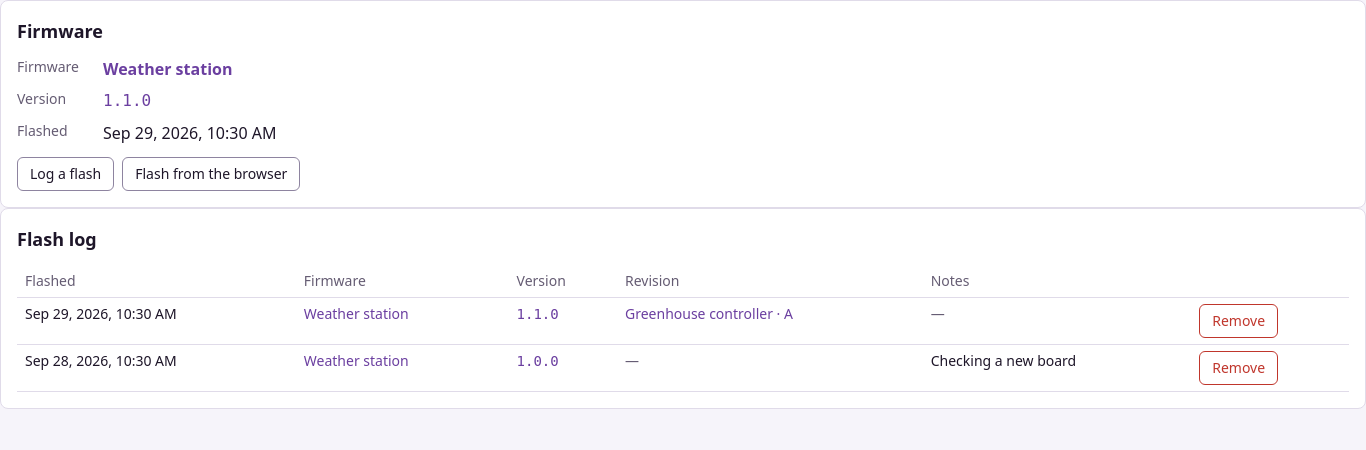
Scenario: CurrentFirmware and FlashLog › asks in its row before removing an entry, and the one before becomes current
The width and height of the screenshot is (1366, 450).
Expected: the text "is out" is not shown
Click the button with aria-label "Remove the flash of Weather station 1.1.0" at x=1239, y=321, box [1199,304,1278,338]
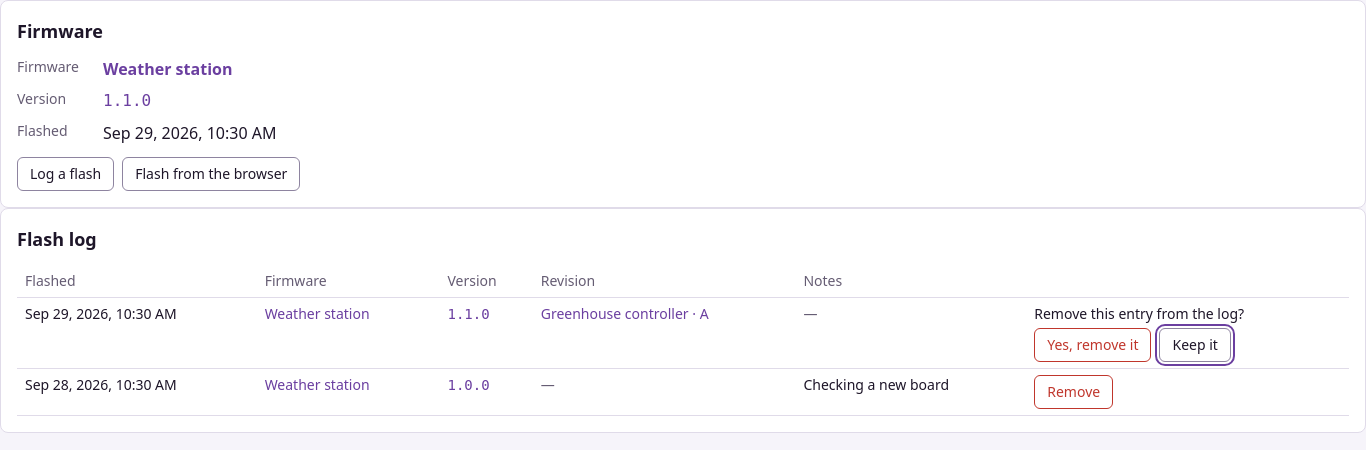
Result: the row that starts with "Sep 29, 2026, 10:30 AM" shows "Remove this entry from the log?" at [1034,304,1244,323]
Click the button "Yes, remove it" at x=1093, y=345, box [1034,328,1152,362]
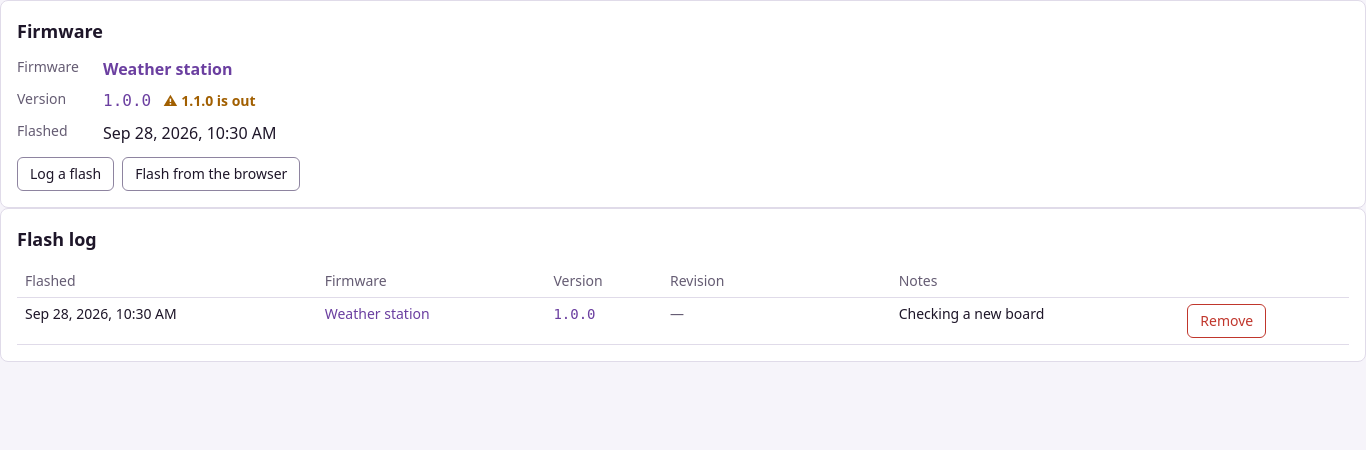
Result: the link "⚠ 1.1.0 is out" is shown at [163,91,256,111]
Result: the number of rows is 2 at [17,265,1349,298]; [17,298,1349,344]
